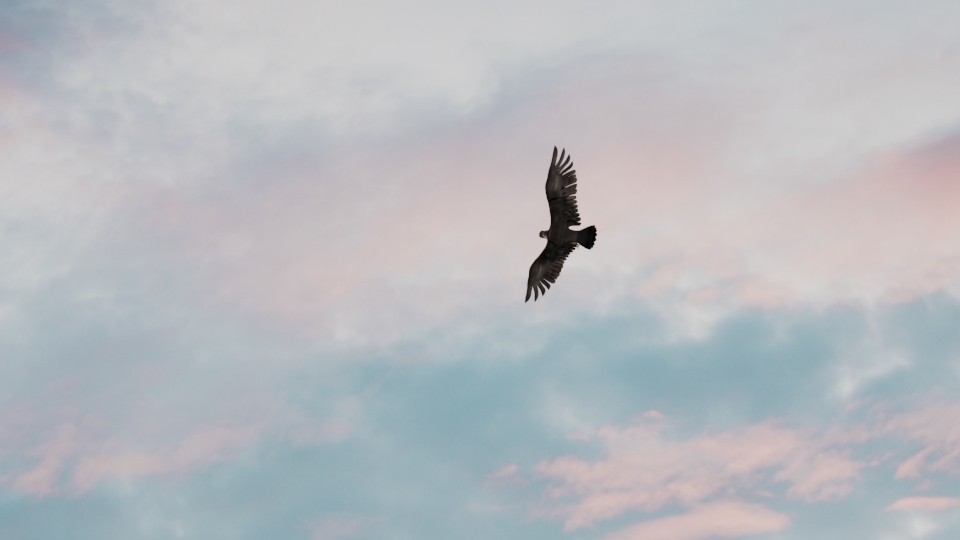bird: (524, 140, 598, 302)
